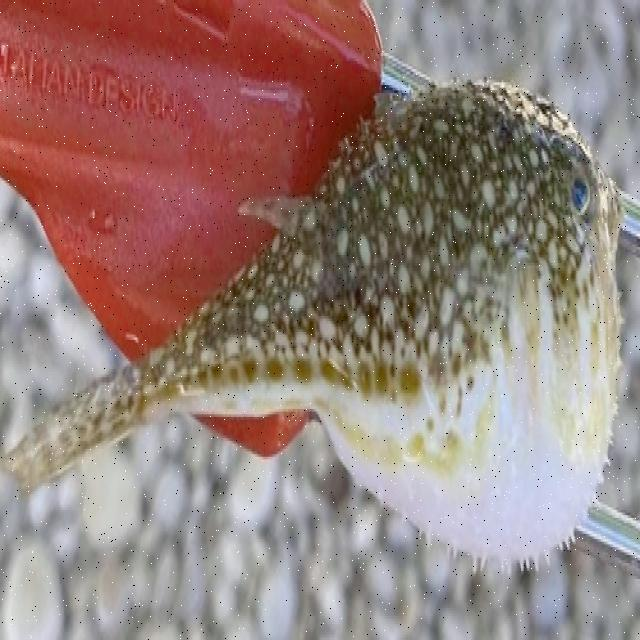Balik: (4, 83, 622, 562)
